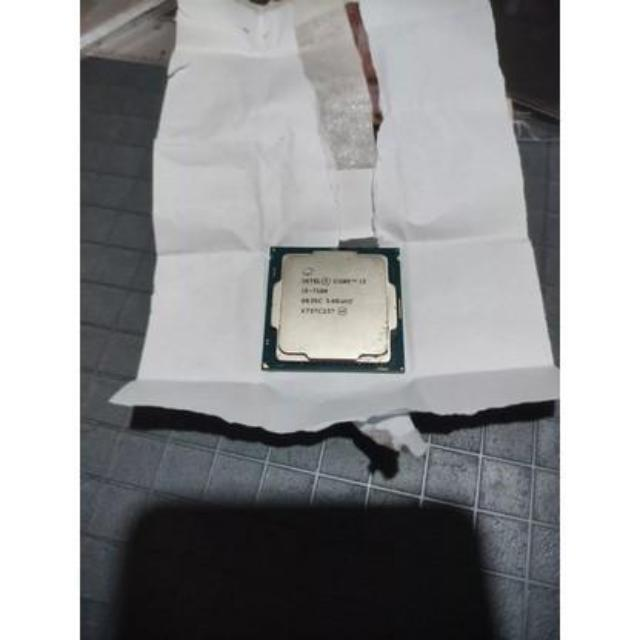CPU: (269, 247, 402, 364)
